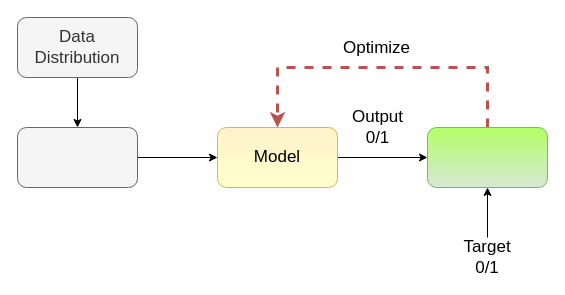
Some shapes in this 565 by 295 pixel diagram are drawn without their labels. The centre of each missing label's shape, as x and y in pixels:
"Data Sample" goes at [77,157].
"Loss" goes at [487,157].
